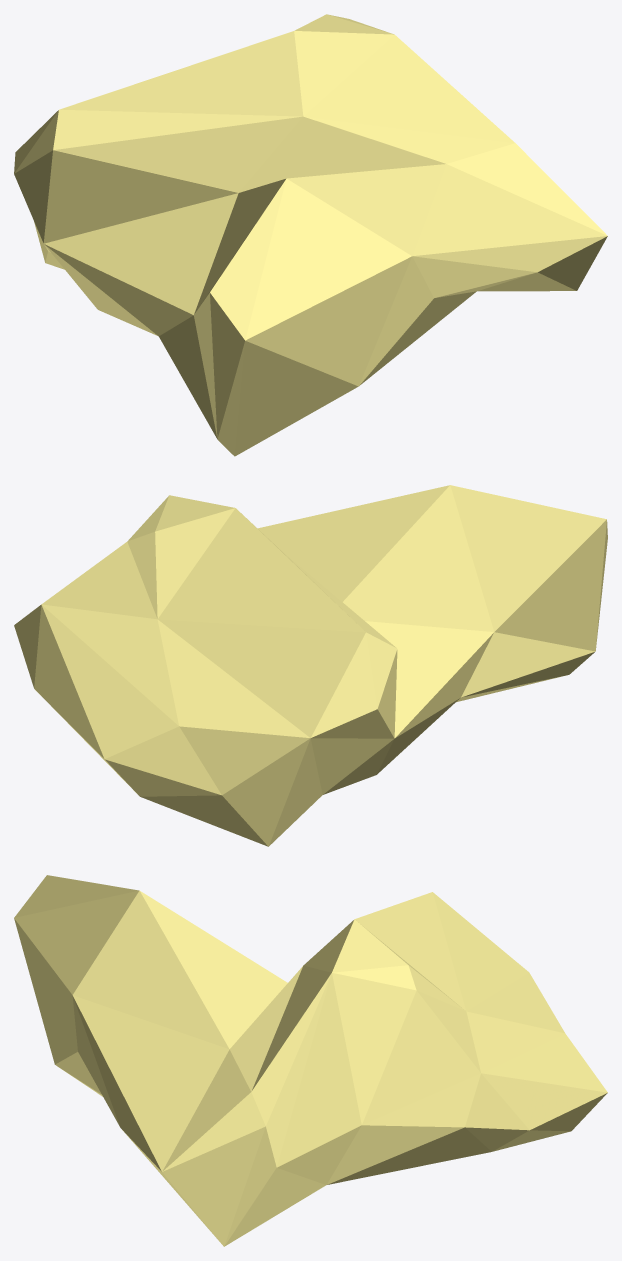
The model's file is Hill_010.glb.
The picture shows the model from 3 angles, top to bottom: view 1: azimuth 30°, elevation 25°; view 2: azimuth 150°, elevation 25°; view 3: azimuth 270°, elevation 25°; orthographic projection. The views are drawn at different scales.
Parts seen in each view (by area): view 1: Hill_010; view 2: Hill_010; view 3: Hill_010.
Boxes of the visible parts, left/top/right/bottom form: Hill_010: left=14, top=14, right=607, bottom=456; Hill_010: left=14, top=485, right=607, bottom=846; Hill_010: left=14, top=875, right=607, bottom=1246.
Bounding box in the file's own units: 0.8127 × 0.4585 × 0.9928.
1 material, 1 textured.
